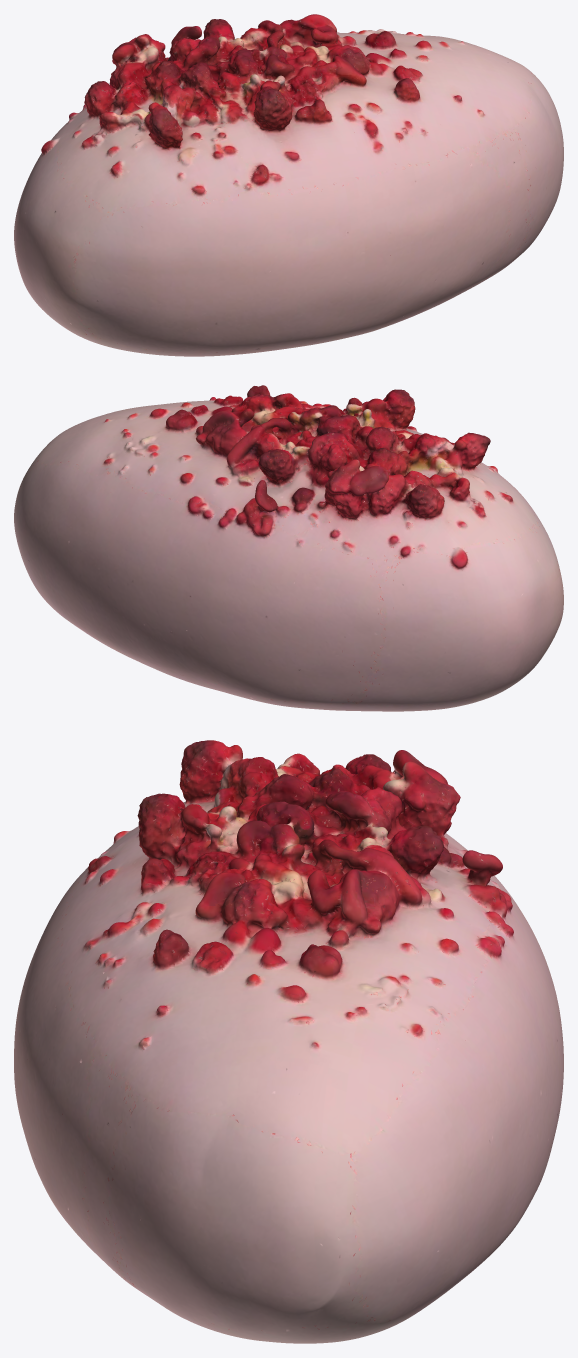
File: passion-berry.glb
3 renders of one model, top to bottom at view 1: azimuth 30°, elevation 25°; view 2: azimuth 150°, elevation 25°; view 3: azimuth 270°, elevation 25°, orthographic. The views are drawn at different scales.
Bounding box in the file's own units: 2 × 0.93 × 1.24.
1 material, 1 textured.
